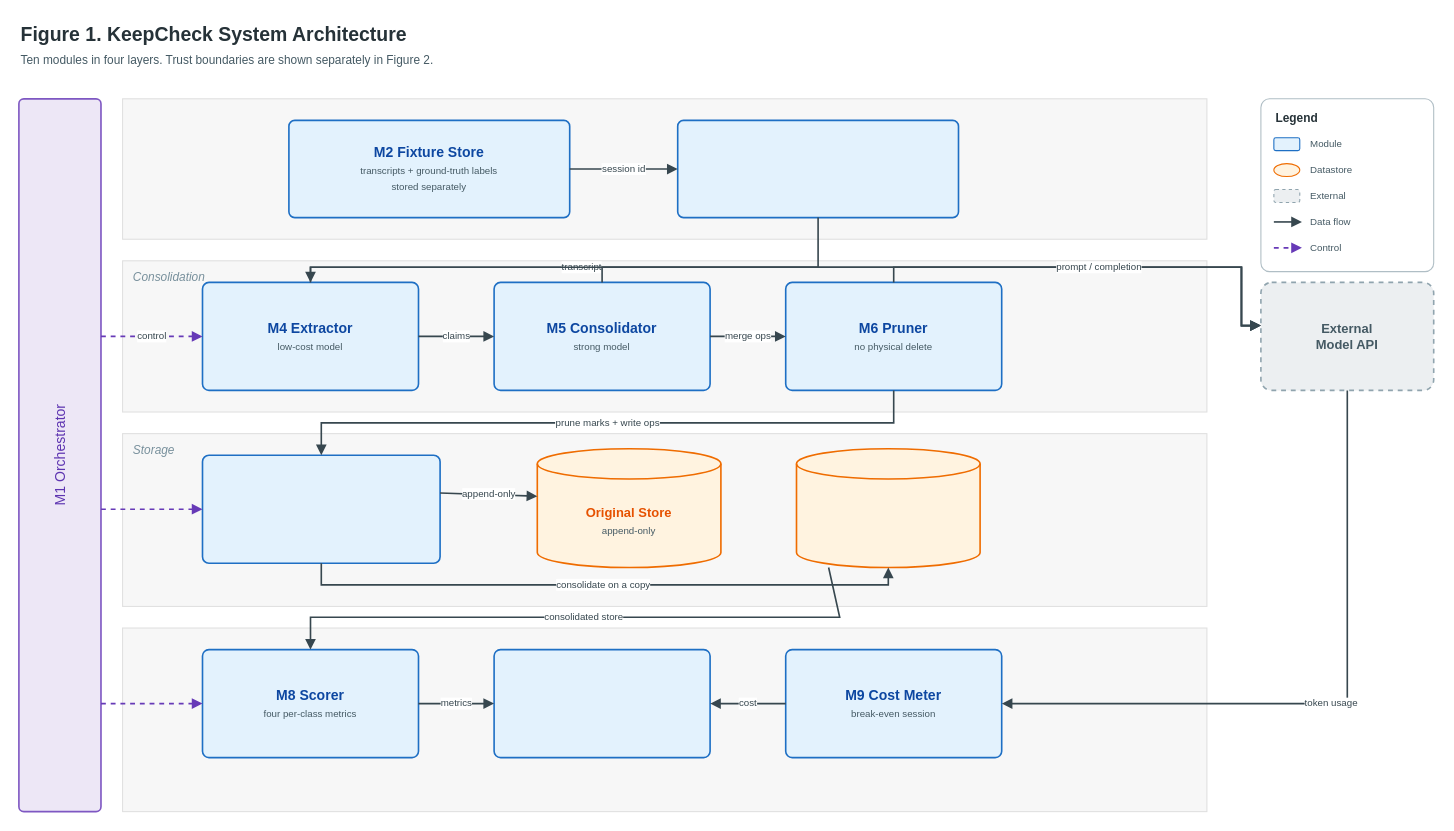
Image size: 1454x831. Some labels were removed from this diagram. The box of each missing label's shape, as (x1, y1, x2, y2) in pixels:
Consolidated Copy rollback target: (795, 447, 980, 568)
Evaluation: (122, 627, 1207, 812)
Input: (122, 98, 1207, 239)
M10 Dashboard read-only, loopback: (493, 648, 710, 758)
M3 Stub Transcript Service fixed interface, deterministic: (676, 119, 959, 218)
M7 Memory Store Adapter every durable write: (201, 454, 440, 564)
